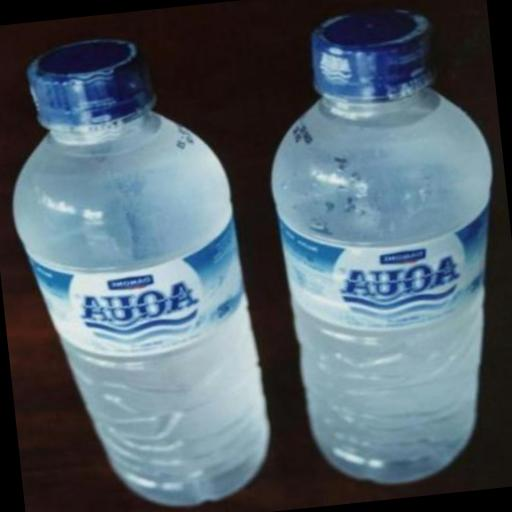Coca: (0, 29, 279, 512), (253, 2, 512, 495)
